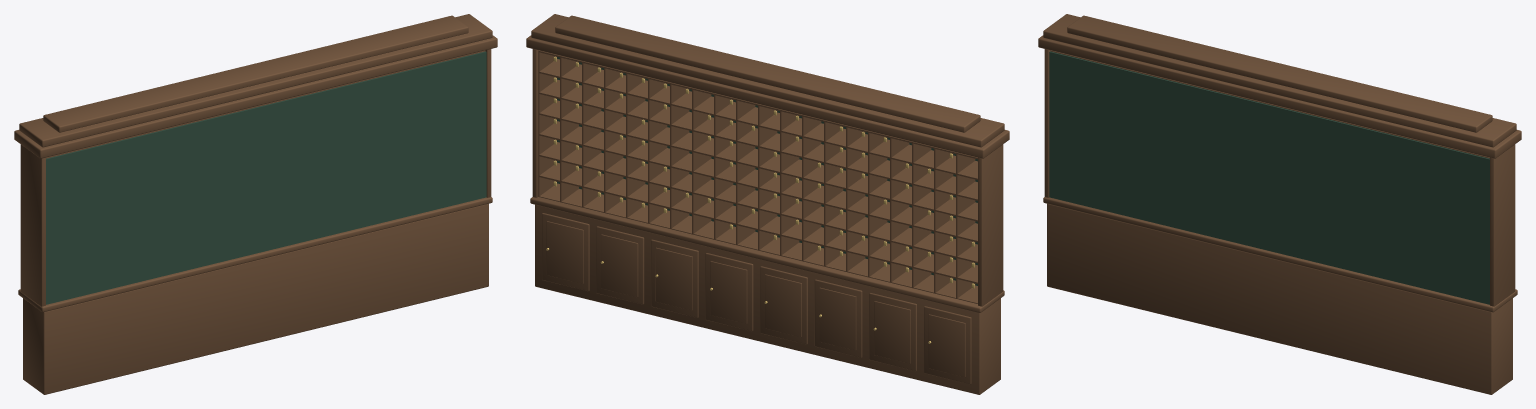
File: arr_chiavi.fbx
The picture shows the model from 3 angles, left to right: view 1: azimuth 30°, elevation 25°; view 2: azimuth 150°, elevation 25°; view 3: azimuth 330°, elevation 25°; orthographic projection.
Parts seen in each view (by area): view 1: arr_chiavi_noce, arr_chiavi_fondo; view 2: arr_chiavi_noce, arr_chiavi_ottone, arr_chiavi_fondo; view 3: arr_chiavi_noce, arr_chiavi_fondo.
Boxes of the visible parts, x1,y1,x2,y2 form: arr_chiavi_noce: (14, 14, 497, 394); arr_chiavi_fondo: (46, 51, 486, 304); arr_chiavi_noce: (526, 14, 1009, 394); arr_chiavi_ottone: (546, 56, 974, 343); arr_chiavi_fondo: (557, 57, 977, 285); arr_chiavi_noce: (1038, 14, 1521, 394); arr_chiavi_fondo: (1049, 51, 1489, 304).
Bounding box in the file's own units: 5.14 × 2.82 × 0.52.
